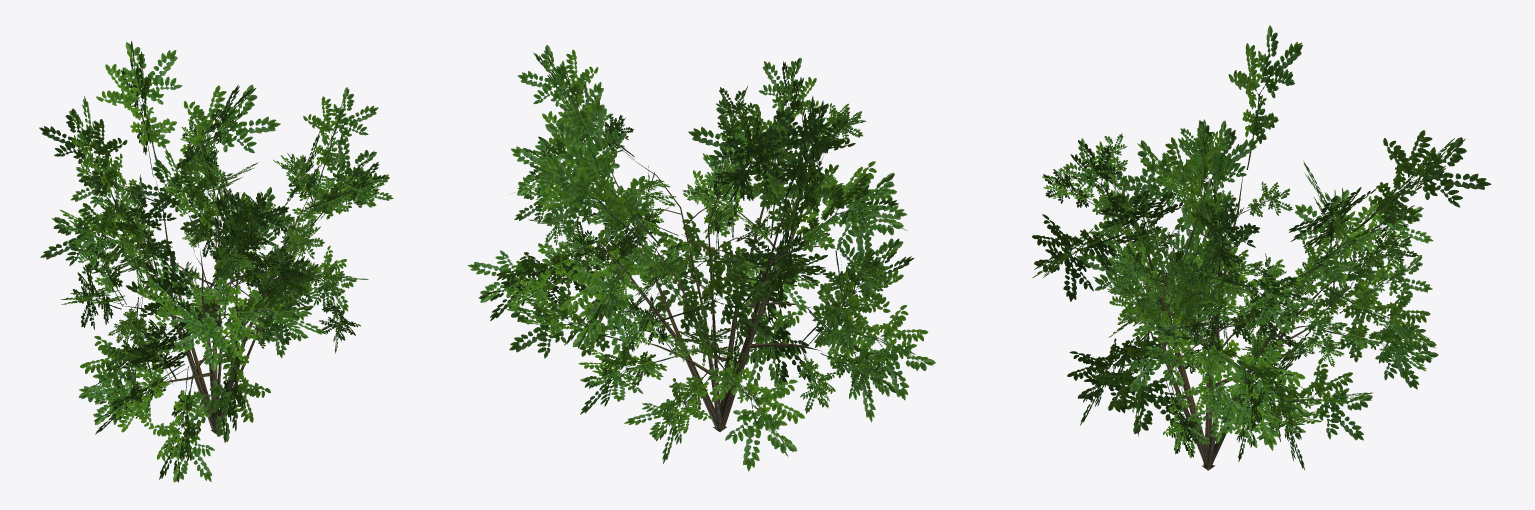
File: tree-bush.glb
3 views of the same model, side by side, from view 1: azimuth 30°, elevation 25°; view 2: azimuth 150°, elevation 25°; view 3: azimuth 270°, elevation 25° (orthographic). The views are drawn at different scales.
Parts seen in each view (by area): view 1: Tree; view 2: Tree; view 3: Tree.
Part boxes in pixels (x1,y1,x2,y2): Tree: [39, 41, 393, 482]; Tree: [467, 45, 935, 471]; Tree: [1032, 25, 1491, 470].
Size of the model in its own units: 0.724 by 0.7418 by 0.8442.
Materials: 2 (2 with a texture image).
